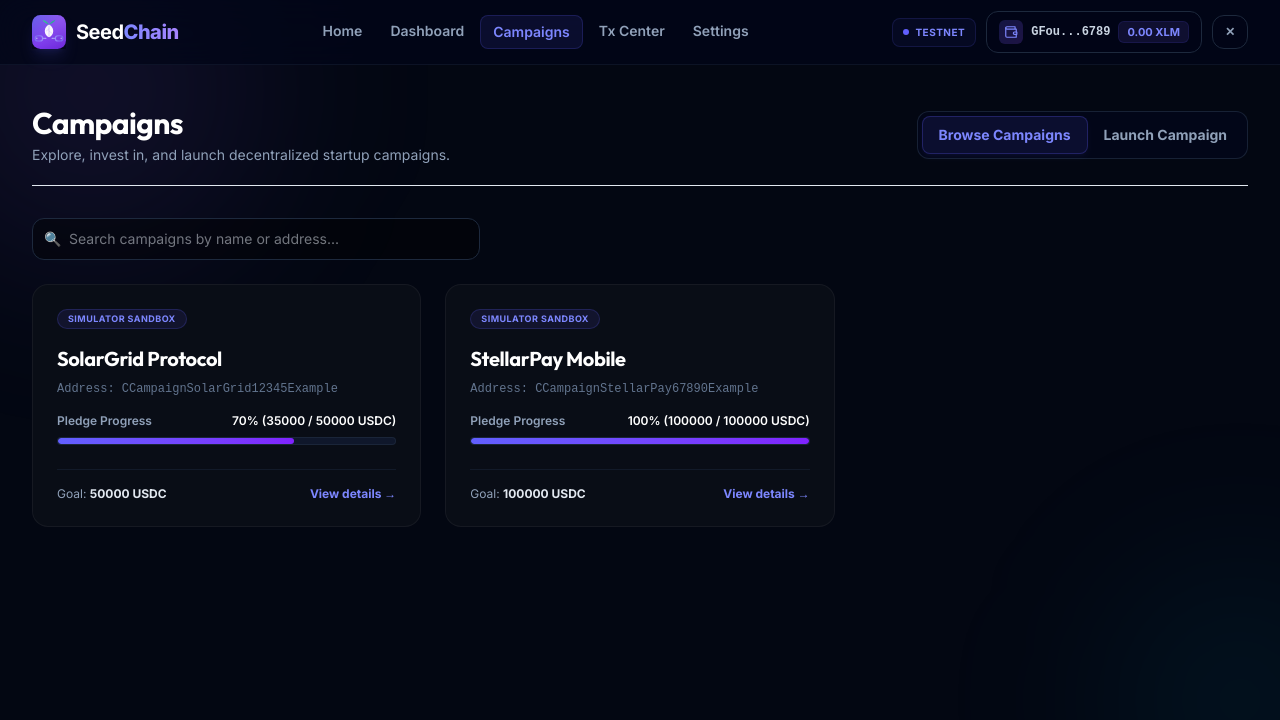
Test: Campaigns Component UI › should render Request Payout button for pending milestones if user is founder/sandbox
This screenshot has width=1280, height=720.
Select SolarGrid Protocol to open its details (wait for it to load from simulator fallback)
Click the heading "SolarGrid Protocol" at (139, 358), box top-left (57, 346), bottom-right (222, 370)
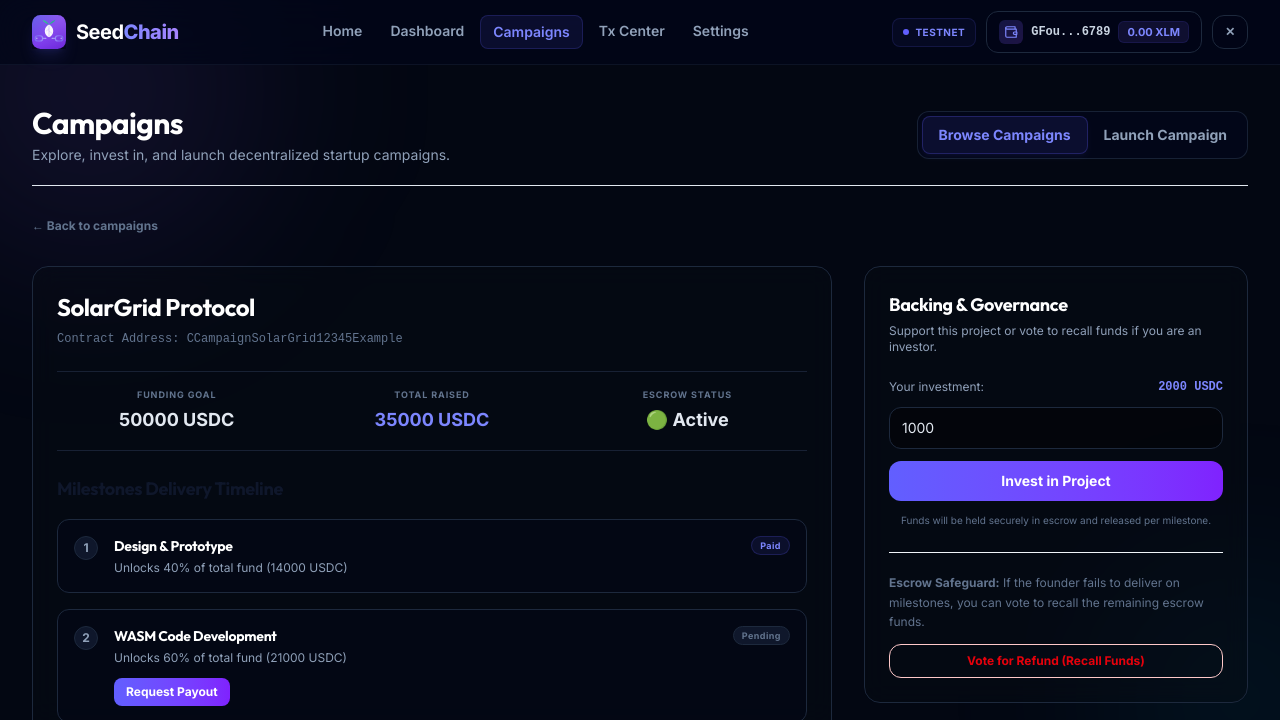
Now the button "Request Payout" is shown, box top-left (114, 678), bottom-right (230, 706)
